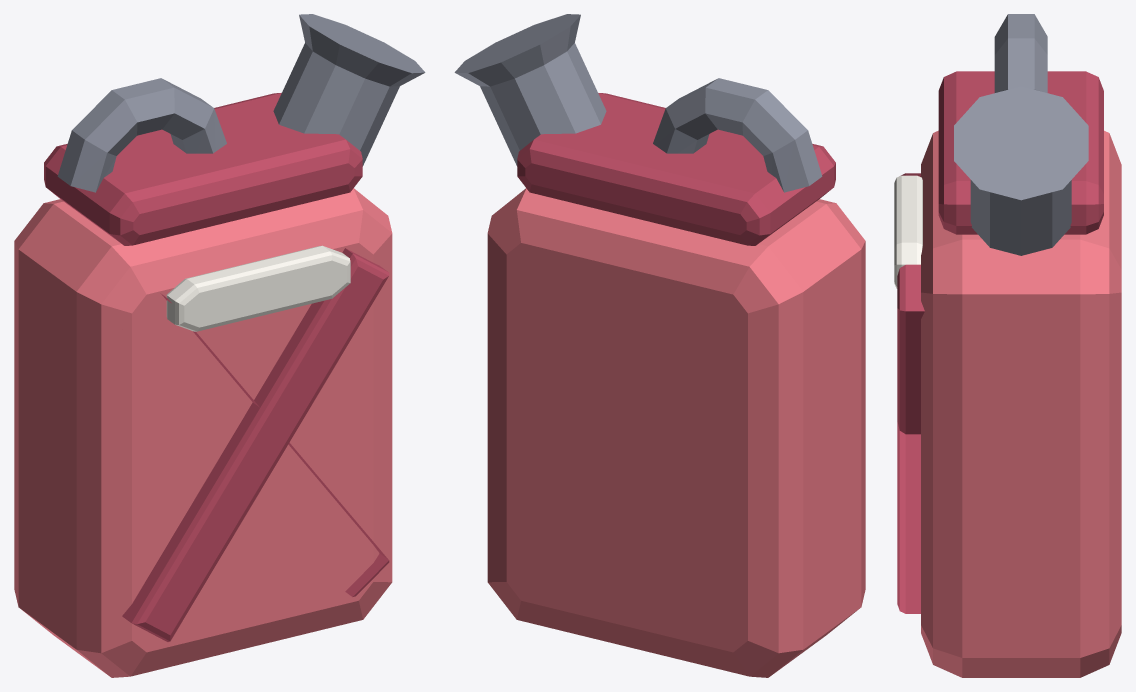
File: game-ui-icon-library-fuel-can-07bec636.glb
3 views of the same model, side by side, from view 1: azimuth 30°, elevation 25°; view 2: azimuth 150°, elevation 25°; view 3: azimuth 270°, elevation 25° (orthographic).
Parts seen in each view (by area): view 1: fuel-can; view 2: fuel-can; view 3: fuel-can.
Part boxes in pixels (box(x1,y1,x2,y2)): fuel-can: box(14, 14, 425, 677); fuel-can: box(454, 14, 865, 677); fuel-can: box(894, 14, 1121, 677).
Bounding box in the file's own units: 0.6288 × 0.94 × 0.3311.
